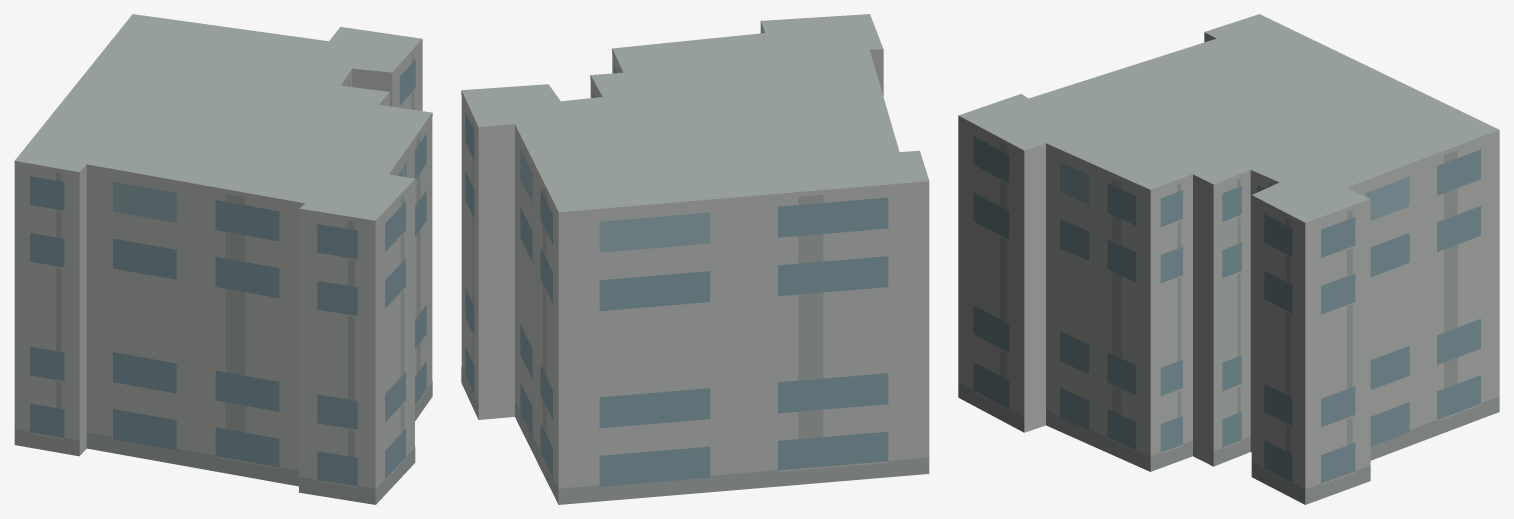
The model's file is survey-upis-32457786.glb.
3 views of the same model, side by side, from view 1: azimuth 30°, elevation 25°; view 2: azimuth 150°, elevation 25°; view 3: azimuth 270°, elevation 25° (orthographic). The views are drawn at different scales.
Visible parts, largest first — view 1: survey-upis-32457786.tmp; view 2: survey-upis-32457786.tmp; view 3: survey-upis-32457786.tmp.
Boxes of the visible parts, x1,y1,x2,y2 form: survey-upis-32457786.tmp: [14, 14, 432, 504]; survey-upis-32457786.tmp: [461, 14, 929, 504]; survey-upis-32457786.tmp: [958, 14, 1499, 504].
Size of the model in its own units: 24.22 by 15.25 by 26.53.
